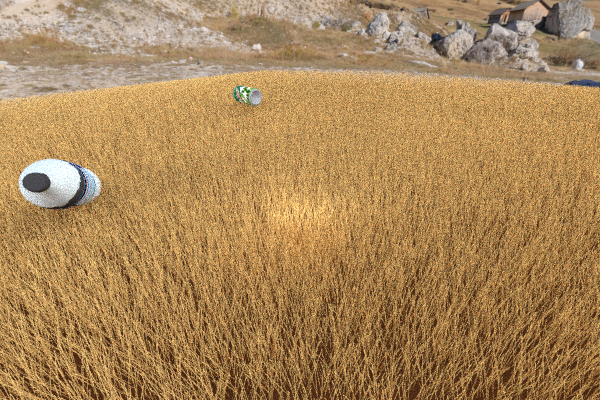Plastic Bottle: (18, 158, 100, 209), (232, 85, 262, 106)
